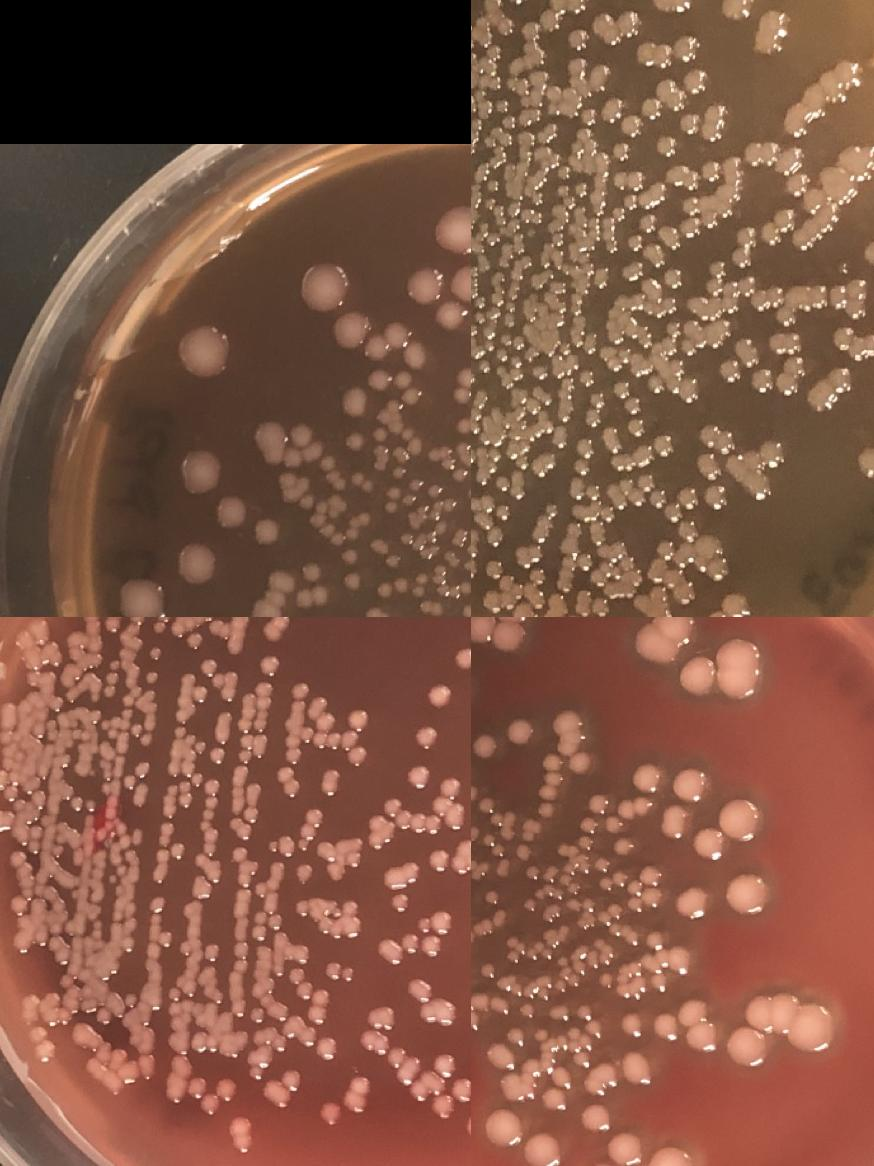pddamselae: (676, 636, 762, 698), (365, 339, 429, 406), (692, 797, 759, 858), (766, 994, 834, 1052), (176, 322, 234, 378), (332, 310, 390, 363), (634, 617, 695, 662), (299, 260, 350, 312), (675, 994, 720, 1052), (433, 265, 471, 331), (176, 448, 225, 496), (115, 576, 167, 617), (724, 870, 770, 916), (724, 1024, 770, 1070), (471, 617, 528, 654), (434, 202, 471, 252), (176, 542, 220, 583), (426, 443, 468, 483), (481, 1106, 523, 1146), (522, 1130, 564, 1166), (408, 266, 446, 304), (608, 1131, 644, 1165), (675, 884, 710, 918), (215, 494, 248, 530), (452, 342, 471, 404), (318, 454, 348, 492), (676, 768, 708, 802), (640, 864, 664, 906), (630, 762, 662, 792), (294, 584, 330, 610), (648, 1147, 693, 1166), (507, 716, 534, 746), (374, 576, 409, 599), (252, 518, 280, 546), (249, 596, 284, 617), (288, 421, 314, 448), (330, 526, 360, 546), (568, 751, 592, 775), (474, 734, 497, 758), (350, 471, 376, 492), (383, 485, 402, 513), (612, 834, 636, 856), (586, 792, 610, 814), (345, 430, 365, 452), (506, 1025, 528, 1045), (412, 571, 428, 598), (278, 470, 298, 491), (342, 572, 362, 592), (340, 546, 360, 566), (302, 562, 322, 582), (454, 411, 471, 434), (420, 600, 444, 616), (308, 510, 328, 528), (544, 752, 562, 772), (390, 464, 408, 480), (612, 870, 630, 886), (598, 972, 616, 988), (594, 856, 612, 872), (577, 834, 595, 850), (576, 1003, 594, 1019), (537, 802, 555, 818), (484, 888, 502, 903), (480, 962, 498, 977), (426, 482, 442, 498), (386, 553, 402, 569), (442, 496, 458, 511), (408, 477, 424, 492), (400, 426, 415, 441), (372, 426, 388, 440), (364, 606, 384, 617), (533, 1027, 548, 1041), (458, 580, 471, 596), (566, 974, 580, 986), (460, 602, 471, 617), (471, 1009, 479, 1029), (466, 540, 471, 556)
sinniae: (778, 55, 870, 139), (646, 482, 702, 608), (600, 94, 664, 164), (749, 351, 809, 398), (734, 206, 797, 249), (484, 312, 528, 372), (610, 166, 651, 222), (828, 274, 873, 324), (482, 96, 518, 149), (556, 164, 589, 210), (628, 208, 662, 252), (696, 421, 737, 456), (740, 138, 784, 168), (674, 30, 706, 64), (720, 586, 755, 617), (624, 395, 647, 440), (583, 388, 606, 428), (574, 437, 596, 476), (745, 471, 773, 501), (760, 440, 788, 468), (746, 287, 774, 315), (660, 264, 688, 292), (482, 523, 510, 551), (566, 26, 592, 56), (829, 323, 856, 351), (705, 253, 732, 281), (652, 431, 679, 459), (592, 264, 619, 292), (830, 366, 856, 395), (764, 329, 790, 357), (716, 357, 742, 385), (705, 482, 731, 510), (705, 554, 731, 582), (681, 66, 707, 94), (678, 109, 704, 137), (656, 131, 682, 159), (620, 254, 646, 282), (518, 16, 544, 44), (480, 554, 506, 582), (480, 587, 506, 615), (786, 170, 812, 197), (719, 0, 754, 19), (702, 159, 724, 181), (548, 0, 574, 17), (576, 551, 596, 573), (529, 566, 549, 588), (664, 316, 683, 338), (682, 196, 700, 218), (582, 331, 600, 353), (578, 366, 596, 388), (552, 426, 570, 448), (471, 310, 486, 336), (591, 597, 610, 617), (471, 286, 486, 308), (532, 363, 550, 381), (525, 396, 543, 414), (494, 474, 512, 492), (494, 504, 512, 522), (606, 438, 624, 454), (486, 232, 504, 248), (482, 194, 500, 210), (864, 239, 874, 267), (582, 108, 598, 124), (501, 0, 536, 7), (551, 232, 566, 248), (530, 210, 545, 226), (476, 359, 490, 373), (471, 42, 478, 67), (500, 376, 514, 388), (514, 242, 528, 253), (486, 181, 501, 191), (493, 284, 507, 294), (471, 263, 481, 277), (471, 447, 477, 465)
vharveyi: (311, 706, 371, 768), (318, 1068, 374, 1128), (382, 796, 470, 834), (399, 906, 457, 962), (90, 690, 136, 739), (198, 777, 222, 854), (200, 657, 239, 702), (186, 1073, 222, 1118), (274, 746, 303, 798), (158, 821, 186, 860), (30, 1024, 58, 1063), (322, 960, 360, 986), (286, 965, 314, 1000), (165, 778, 194, 808), (103, 657, 122, 699), (318, 766, 342, 799), (424, 846, 451, 874), (315, 1034, 342, 1062), (438, 772, 464, 800), (431, 1050, 457, 1078), (429, 1093, 455, 1121), (426, 680, 452, 708), (406, 762, 432, 790), (292, 858, 318, 886), (281, 1065, 307, 1093), (314, 836, 338, 866), (412, 723, 438, 750), (166, 1028, 191, 1056), (253, 910, 286, 931), (134, 1052, 158, 1080), (304, 801, 329, 827), (386, 889, 410, 916), (288, 674, 312, 701), (258, 651, 282, 678), (130, 722, 154, 748), (386, 1043, 409, 1069), (453, 642, 471, 670), (69, 796, 98, 812), (131, 758, 150, 780), (290, 898, 310, 918), (247, 1004, 267, 1024), (402, 859, 420, 881), (342, 896, 360, 918), (191, 683, 210, 703), (186, 630, 204, 651), (9, 895, 27, 916), (208, 746, 228, 764), (204, 942, 222, 962), (157, 929, 175, 949), (148, 894, 166, 914), (146, 642, 164, 662), (143, 666, 161, 686), (94, 1004, 112, 1024), (9, 848, 27, 868), (131, 828, 148, 848), (226, 814, 243, 830), (166, 986, 182, 1002), (152, 620, 168, 636), (271, 617, 290, 630), (51, 898, 66, 914), (237, 748, 252, 763), (296, 836, 310, 852), (50, 844, 66, 858), (173, 724, 188, 738), (124, 992, 139, 1006), (193, 740, 207, 754), (268, 840, 280, 852)
